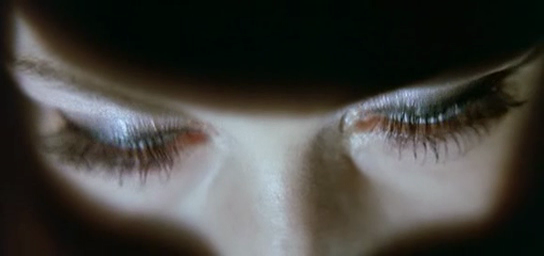ecu: (1, 1, 544, 256)
face: (1, 1, 544, 256)
person: (1, 1, 544, 256)
